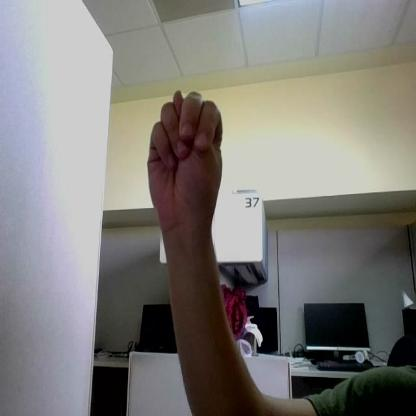N: (148, 89, 222, 222)
